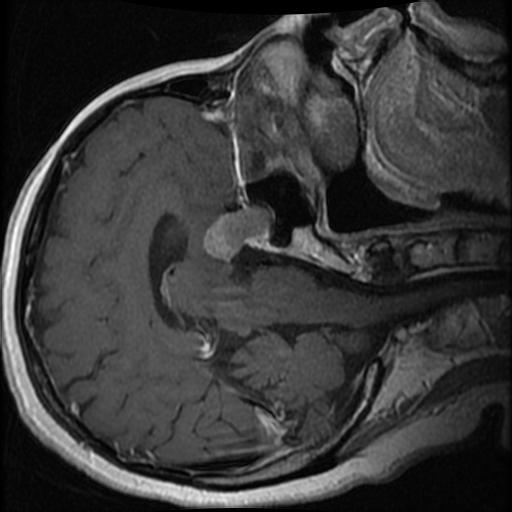pituitary tumour: (204, 207, 272, 261)
